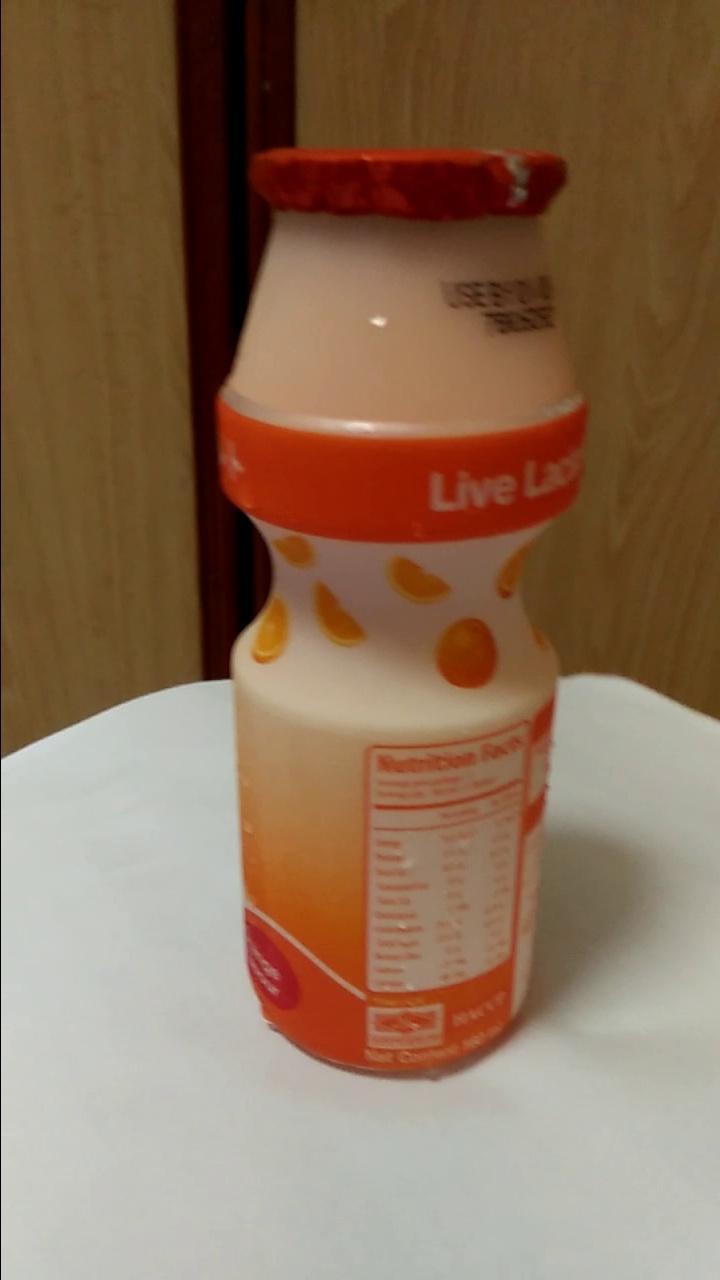milk: (221, 153, 564, 1076)
